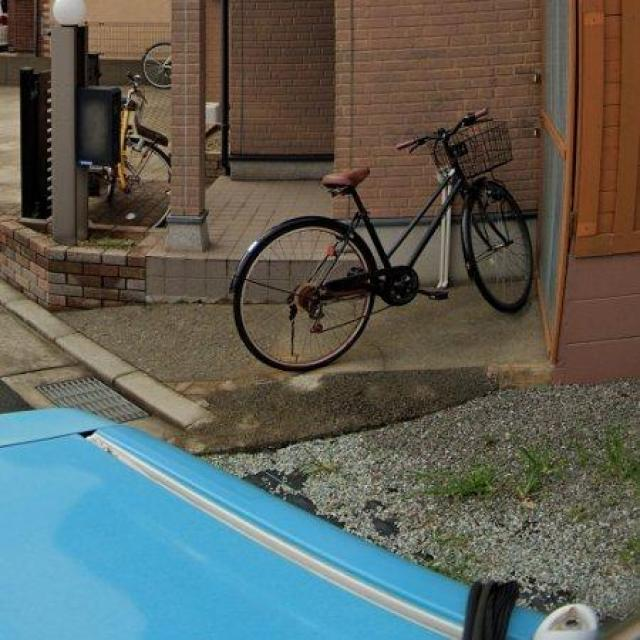bicycle: (233, 111, 536, 373), (90, 44, 172, 230)
